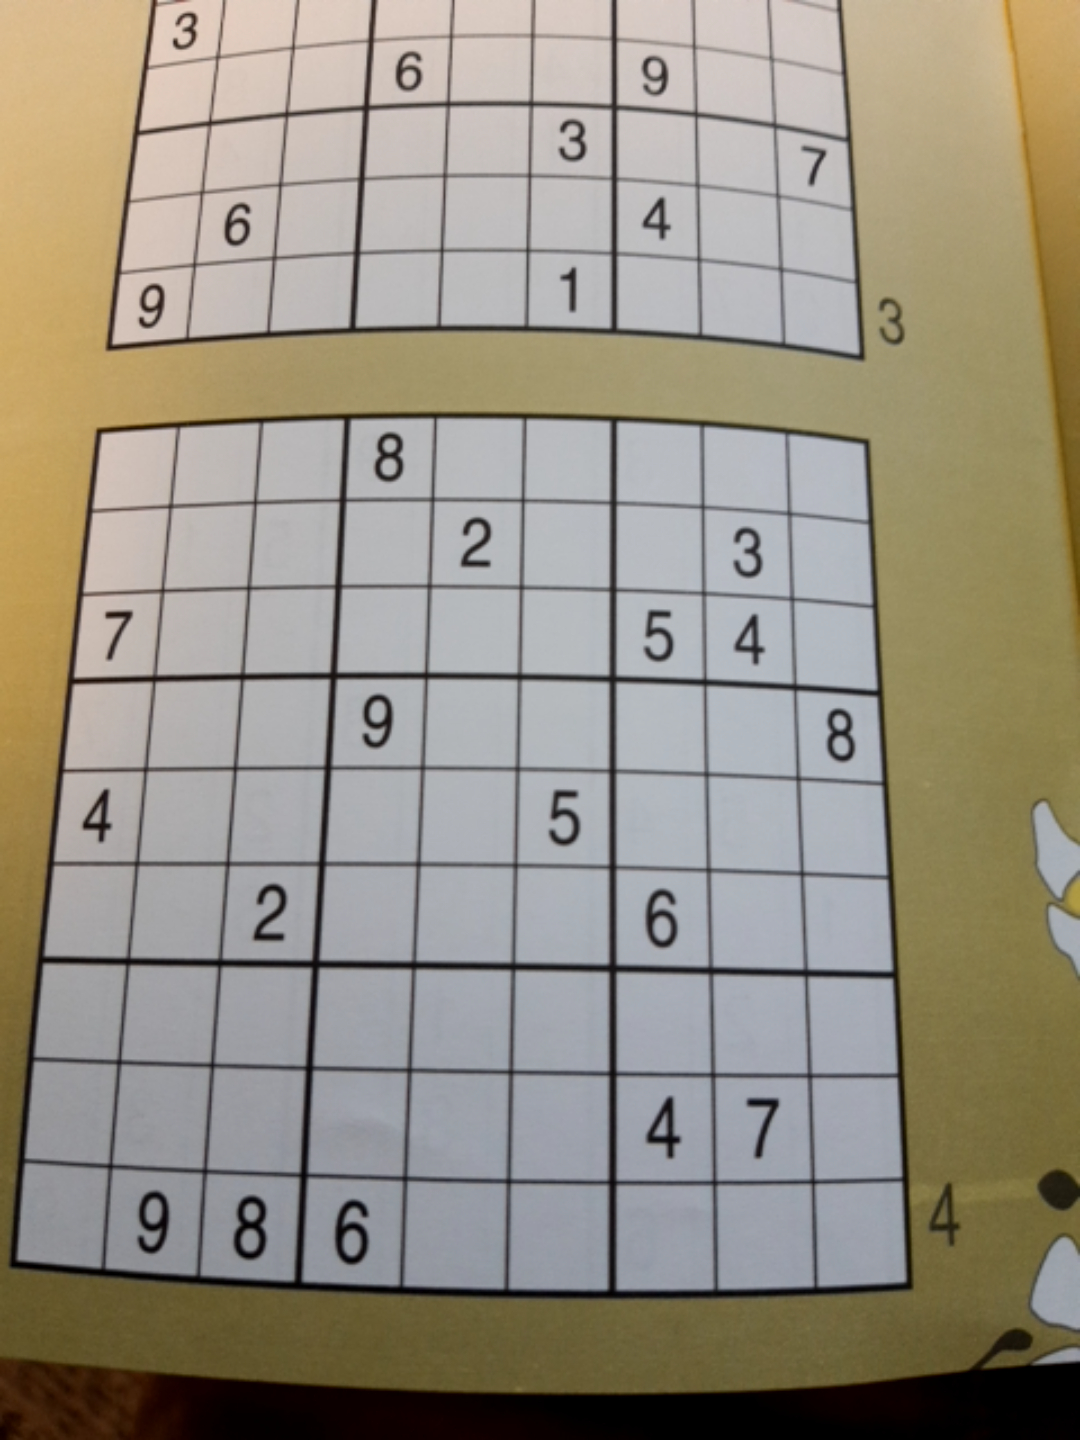sudoku: (8, 413, 914, 1300)
